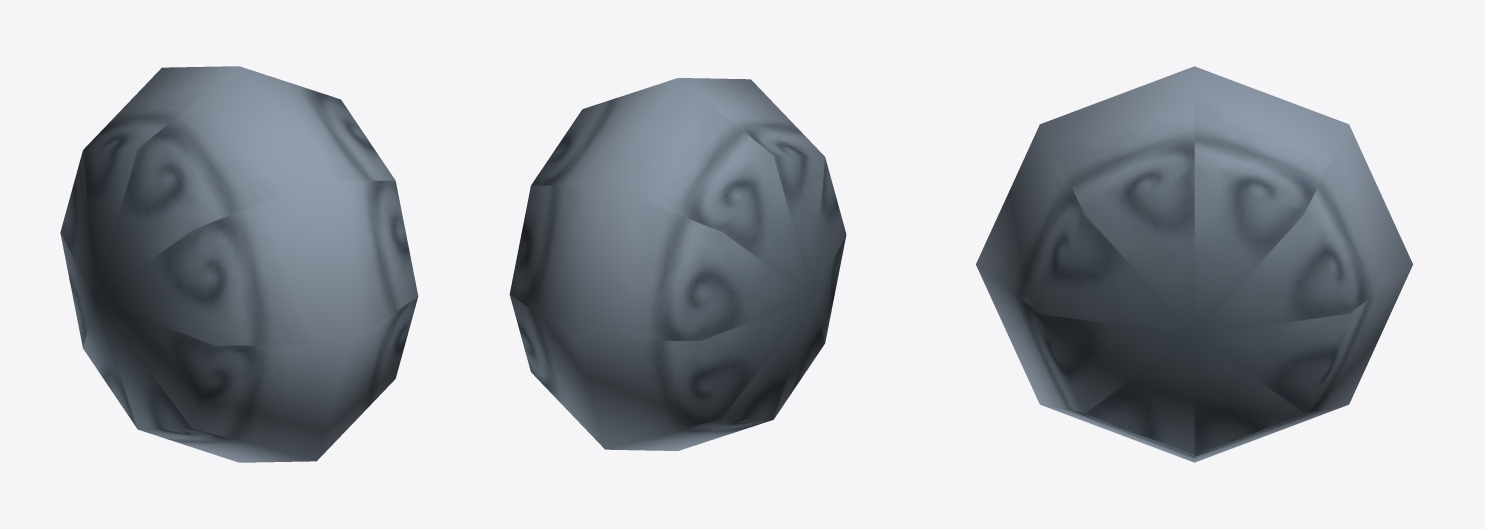
Rendered from model_ball_fir.glb.
3 views of the same model, side by side, from view 1: azimuth 30°, elevation 25°; view 2: azimuth 150°, elevation 25°; view 3: azimuth 270°, elevation 25° (orthographic). The views are drawn at different scales.
Visible parts, largest first — view 1: parts.model_ball_fir-Mesh[0]; view 2: parts.model_ball_fir-Mesh[0]; view 3: parts.model_ball_fir-Mesh[0].
Boxes of the visible parts, bbox=[...] form: parts.model_ball_fir-Mesh[0]: bbox=[60, 66, 418, 462]; parts.model_ball_fir-Mesh[0]: bbox=[509, 78, 846, 450]; parts.model_ball_fir-Mesh[0]: bbox=[976, 66, 1412, 462].
Bounding box in the file's own units: 0.6345 × 1.06 × 1.06.
Materials: 1 (1 with a texture image).
